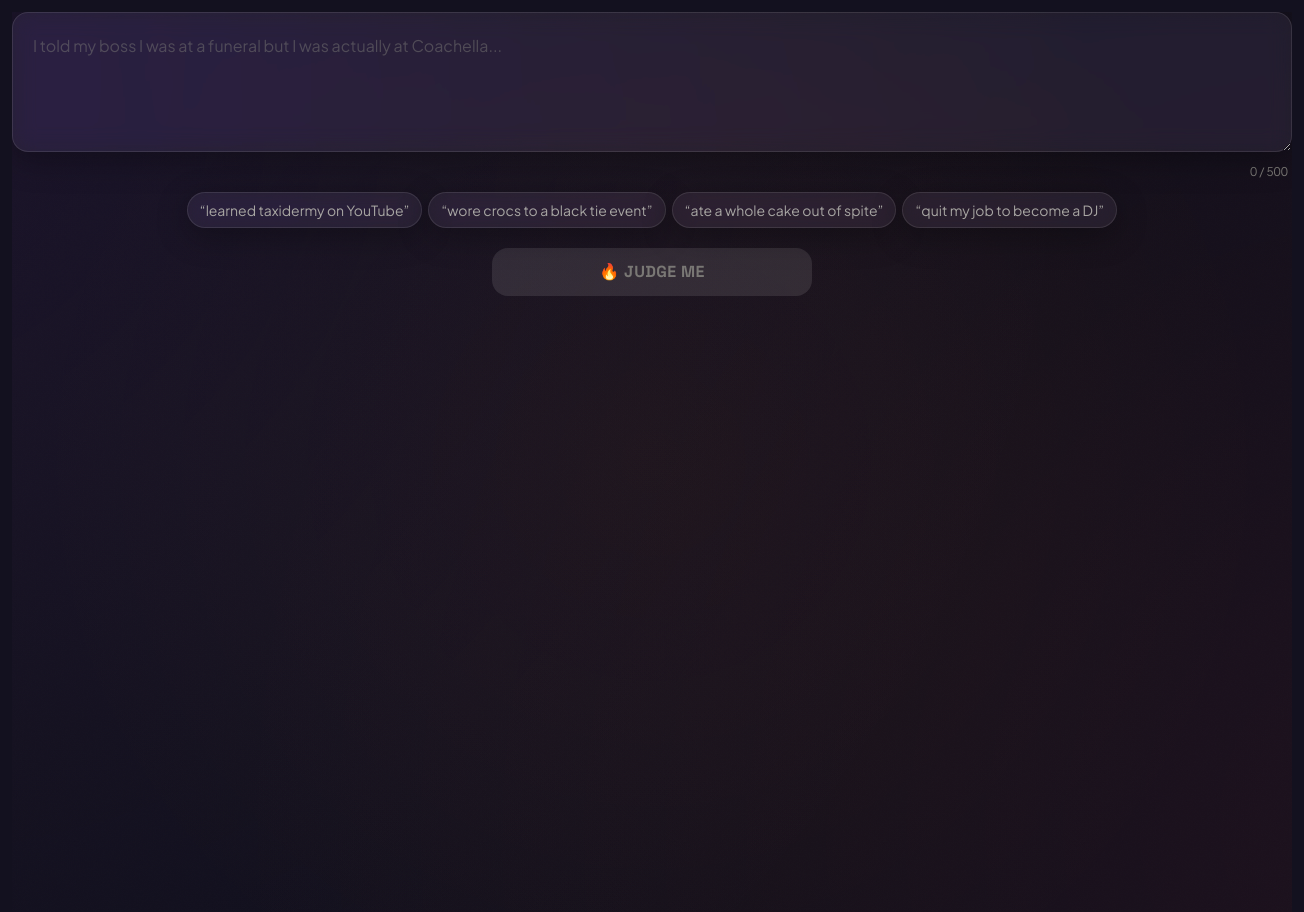
Test case: InputForm › enables submit button when >= 10 chars are typed
The width and height of the screenshot is (1304, 912).
In the text box with placeholder "I told my boss I was at a funeral": (652, 82) 12,12 -> 1292,152, type "1234567890"
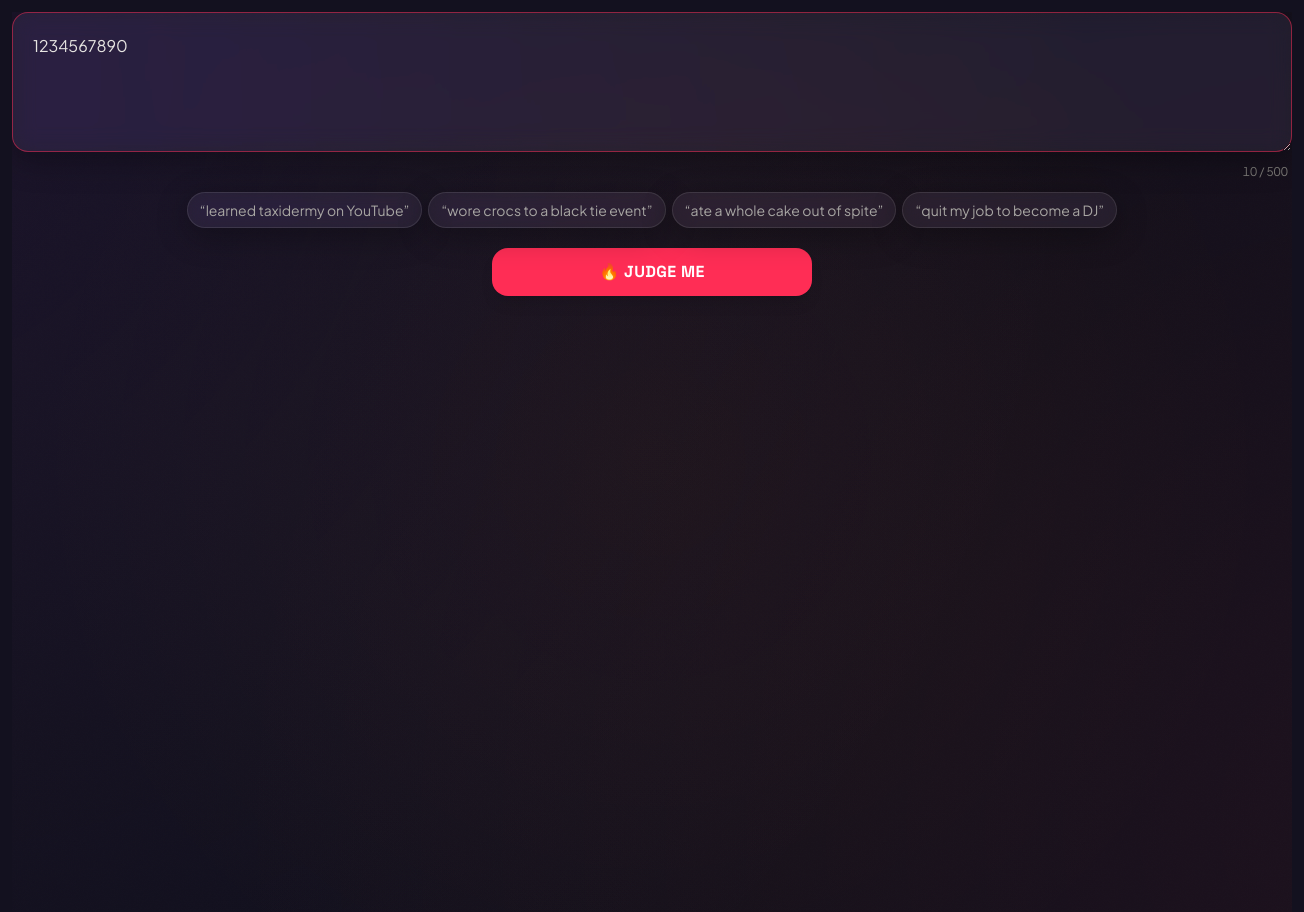
Expected: the button "🔥 JUDGE ME" is enabled, 492,248 -> 812,296
